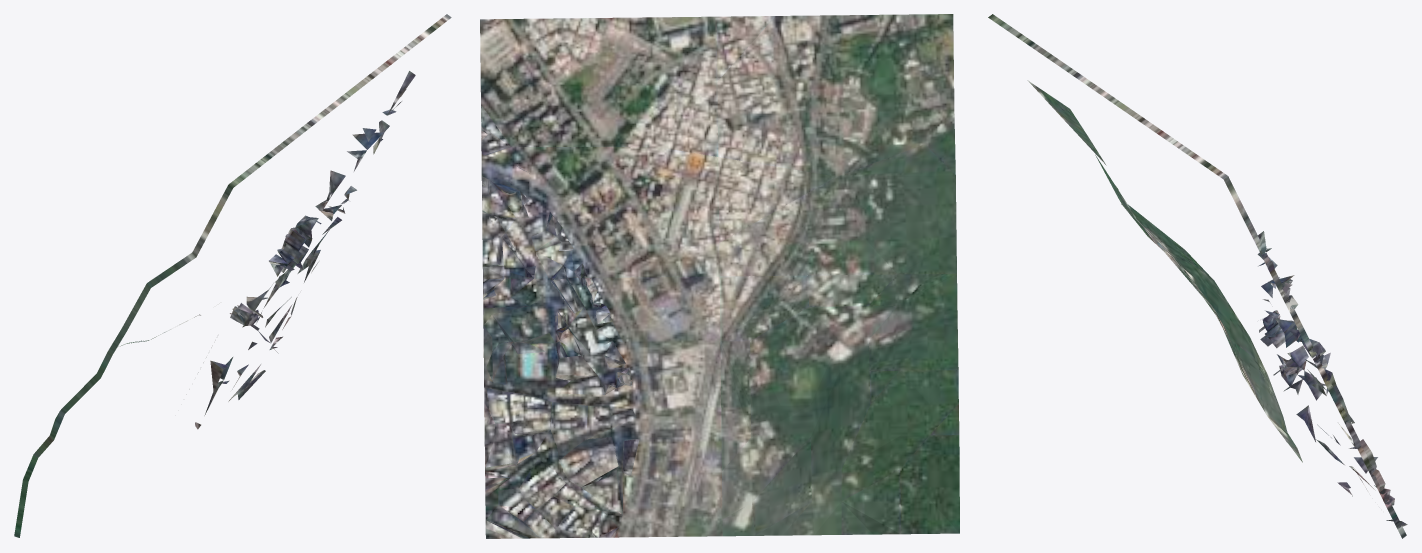
3 views of the same model, side by side, from view 1: azimuth 30°, elevation 25°; view 2: azimuth 150°, elevation 25°; view 3: azimuth 270°, elevation 25° (orthographic). The views are drawn at different scales.
Size of the model in its own units: 1260 by 1109 by 1034.
Materials: 1 (1 with a texture image).
